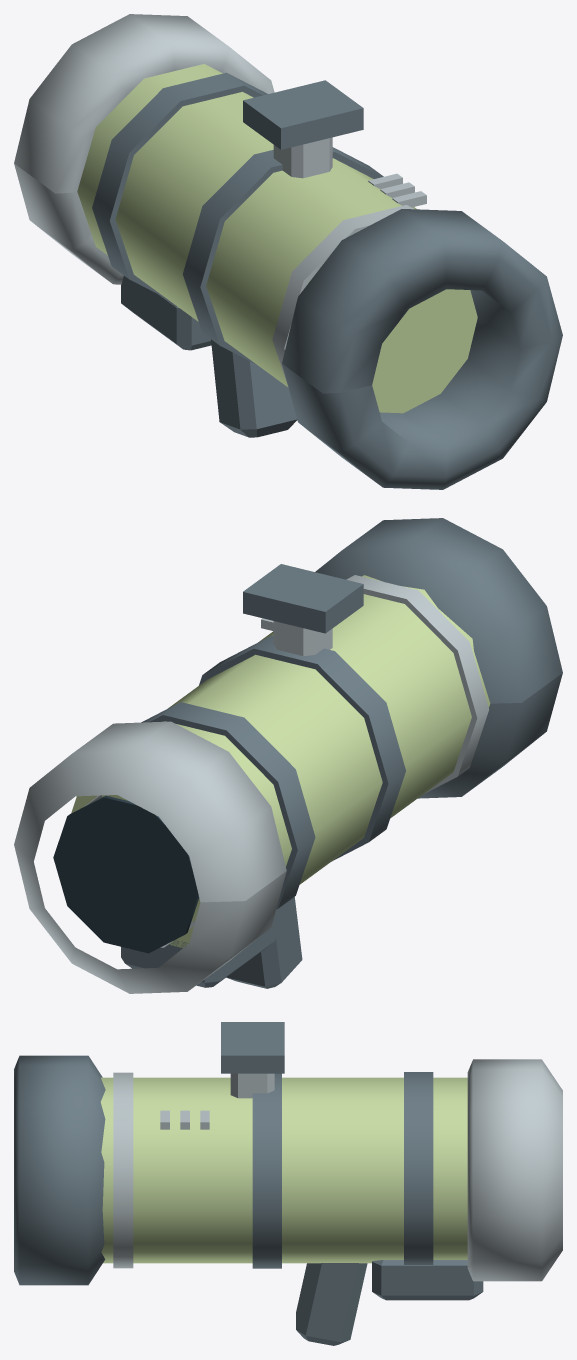
The model's file is bazooka.glb.
3 renders of one model, top to bottom at view 1: azimuth 30°, elevation 25°; view 2: azimuth 150°, elevation 25°; view 3: azimuth 270°, elevation 25°, orthographic. The views are drawn at different scales.
Visible parts, largest first — view 1: static:equipment-dark-steel, static:equipment-bazooka, static:equipment-steel, static:equipment-rubber; view 2: static:equipment-dark-steel, static:equipment-steel, static:equipment-bazooka, static:equipment-recess, static:equipment-rubber; view 3: static:equipment-bazooka, static:equipment-dark-steel, static:equipment-steel, static:equipment-rubber.
Boxes of the visible parts, x1,y1,x2,y2 form: static:equipment-dark-steel: [92, 72, 562, 489]; static:equipment-bazooka: [77, 64, 477, 413]; static:equipment-steel: [14, 14, 426, 384]; static:equipment-rubber: [121, 276, 297, 437]; static:equipment-dark-steel: [141, 518, 562, 909]; static:equipment-steel: [14, 575, 489, 993]; static:equipment-bazooka: [71, 575, 490, 947]; static:equipment-recess: [53, 795, 199, 953]; static:equipment-rubber: [121, 897, 302, 988]; static:equipment-bazooka: [100, 1077, 467, 1263]; static:equipment-dark-steel: [14, 1022, 433, 1285]; static:equipment-steel: [113, 1059, 562, 1281]; static:equipment-rubber: [296, 1260, 483, 1345].
Size of the model in its own units: 0.29 by 0.4156 by 0.69.
